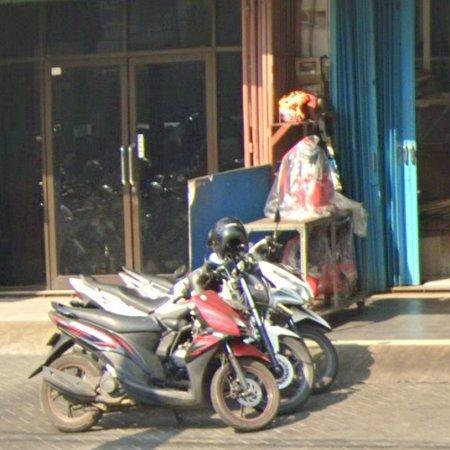motorcycles: (34, 268, 280, 432), (177, 218, 313, 414), (69, 277, 170, 317)
